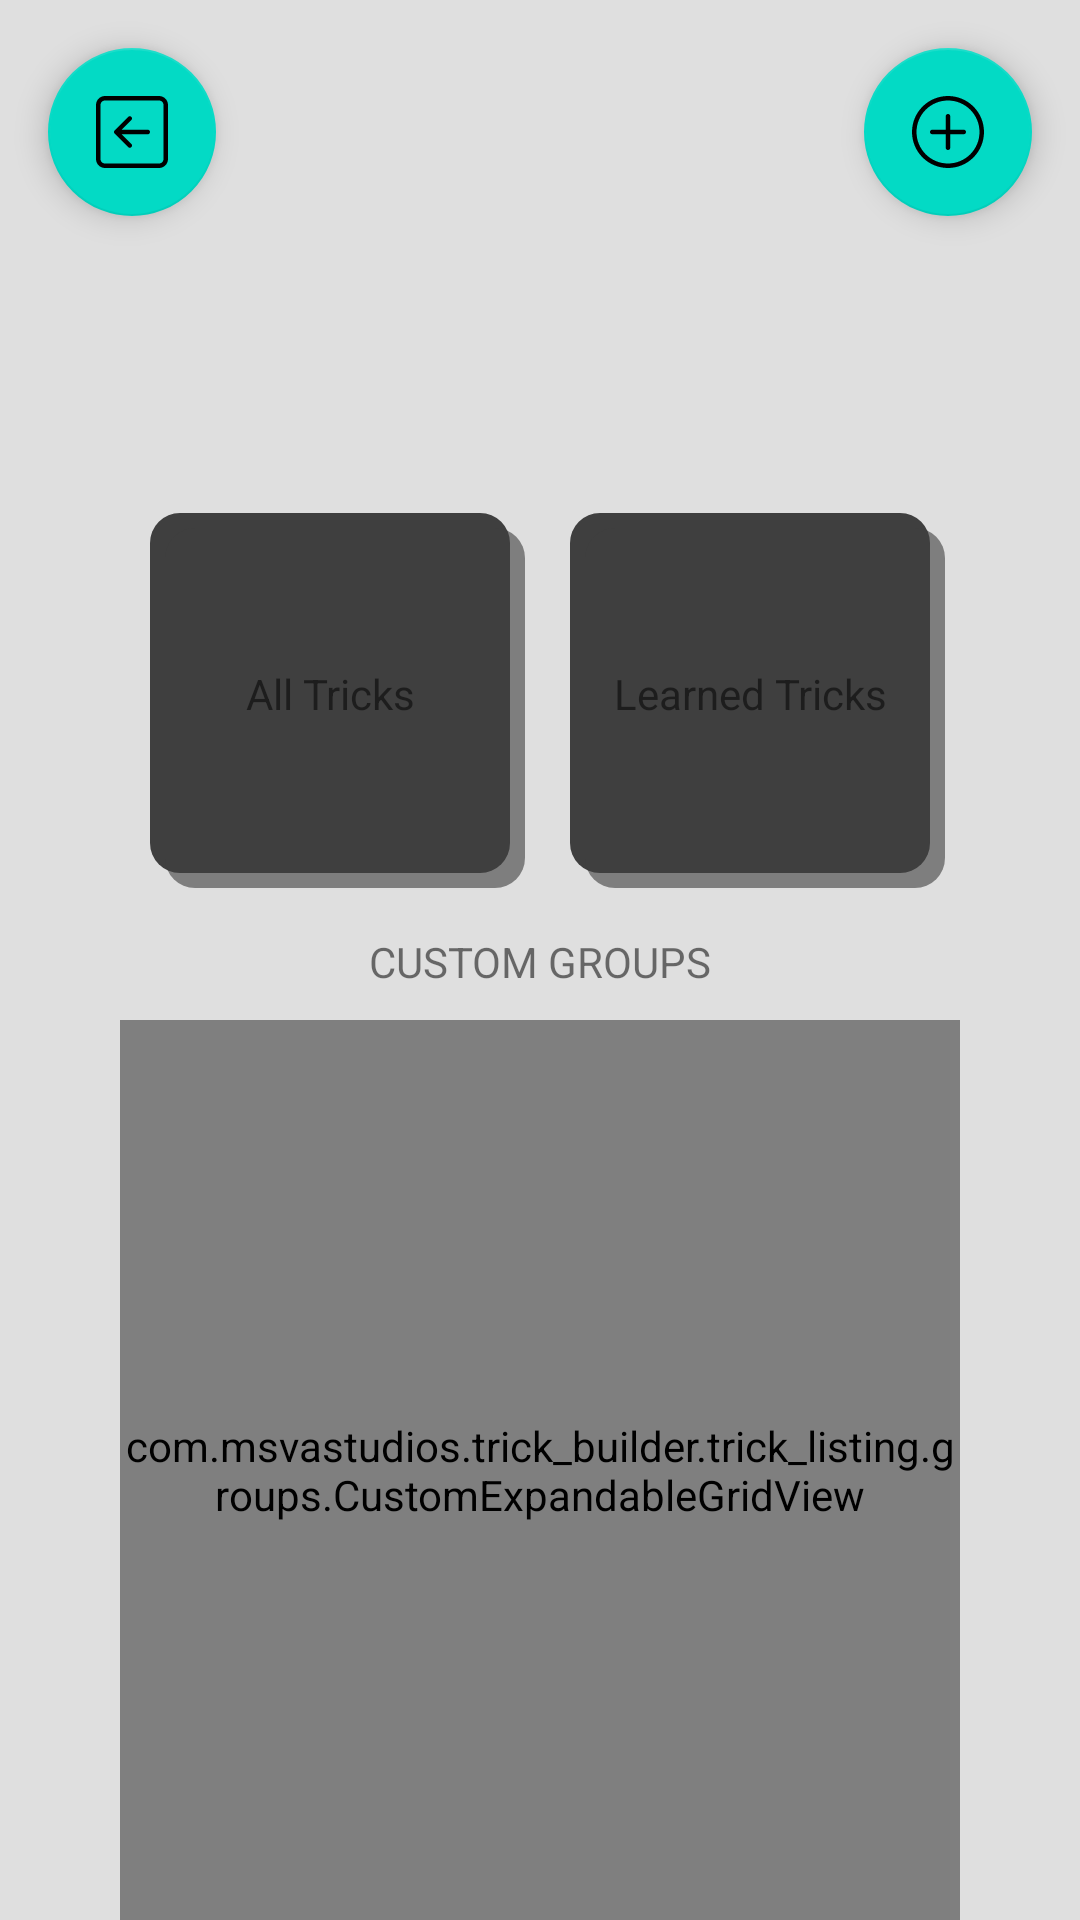

Icon bounding boxes for this 1080×1920 phone screenshot, format (x1, y1, x2, y2):
back: (48, 48, 216, 216)
plus: (864, 48, 1032, 216)
